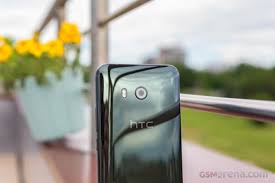htc: (91, 58, 185, 183)
